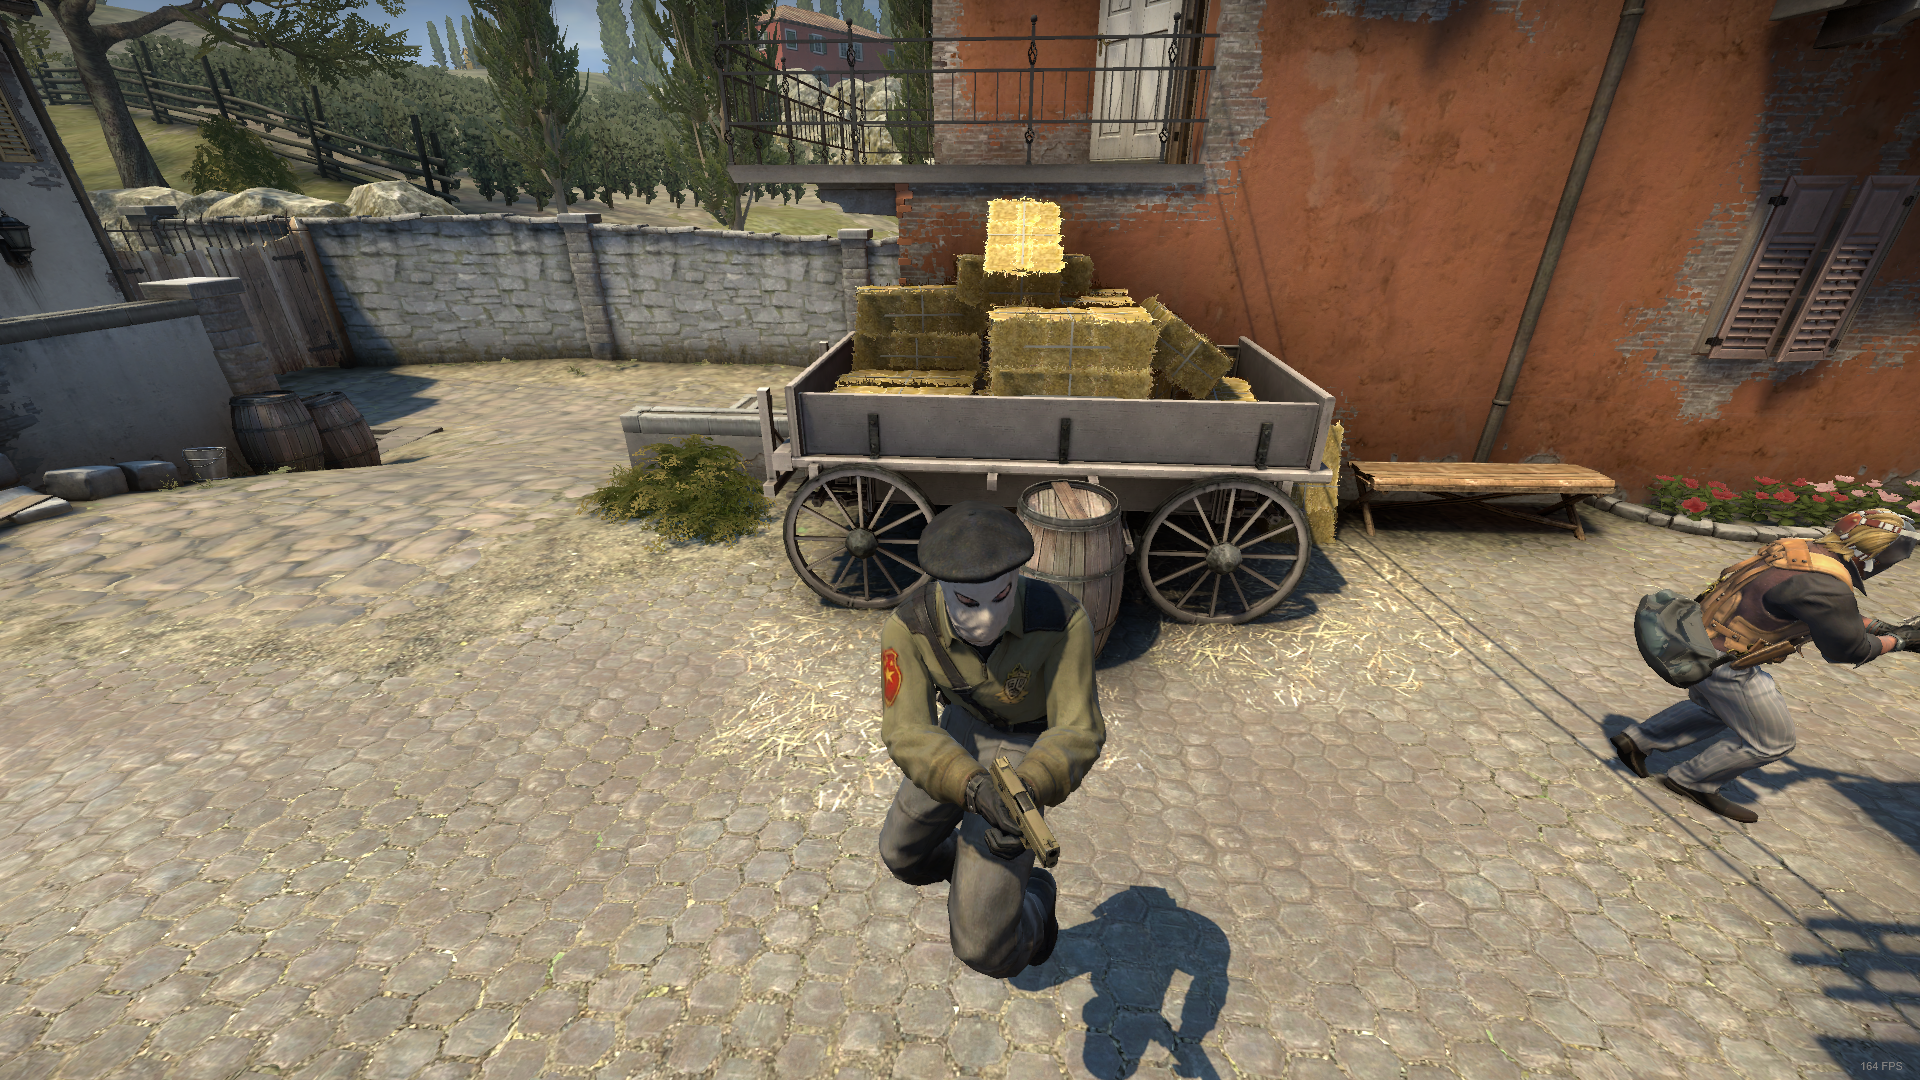t: (880, 502, 1106, 975)
